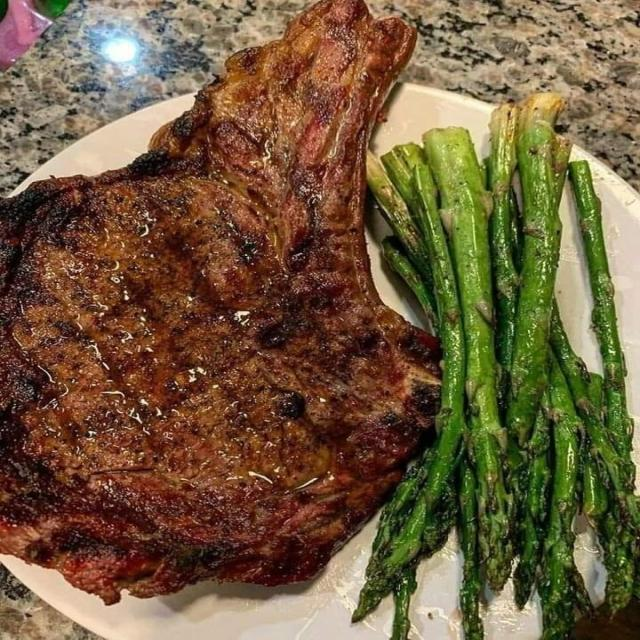asparagus: (354, 166, 465, 620), (424, 128, 512, 590), (569, 161, 639, 612), (551, 306, 638, 612), (507, 94, 563, 445), (551, 305, 639, 526), (569, 161, 632, 456), (415, 165, 465, 507), (539, 355, 591, 639), (352, 449, 433, 622), (367, 152, 435, 322), (488, 104, 519, 406), (513, 410, 551, 608), (459, 459, 483, 639), (598, 505, 637, 615), (383, 237, 431, 312), (381, 143, 424, 219), (583, 446, 608, 526), (391, 564, 416, 639), (583, 449, 608, 522), (553, 135, 572, 206), (510, 188, 524, 275)
beef steak: (0, 0, 439, 604)
